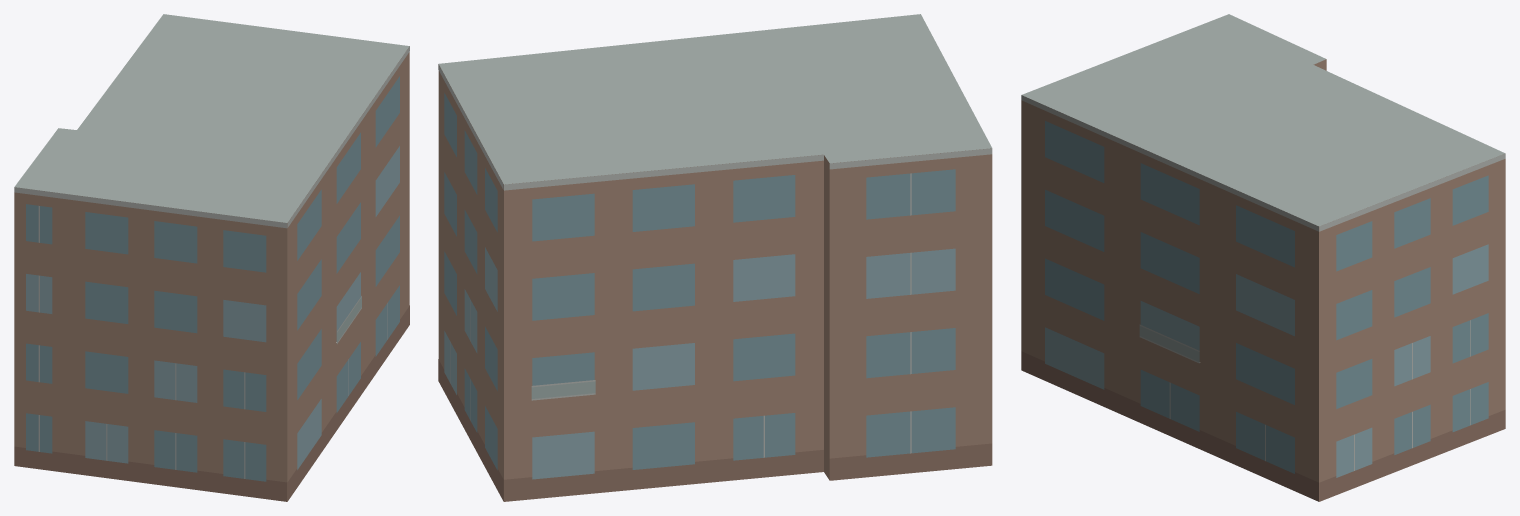
The model's file is survey-upis-32838534.glb.
3 renders of one model, left to right at view 1: azimuth 30°, elevation 25°; view 2: azimuth 150°, elevation 25°; view 3: azimuth 270°, elevation 25°, orthographic. The views are drawn at different scales.
Visible parts, largest first — view 1: survey-upis-32838534.tmp; view 2: survey-upis-32838534.tmp; view 3: survey-upis-32838534.tmp.
Part boxes in pixels (bbox=[...]): survey-upis-32838534.tmp: bbox=[14, 14, 409, 501]; survey-upis-32838534.tmp: bbox=[438, 14, 992, 501]; survey-upis-32838534.tmp: bbox=[1021, 14, 1505, 501].
Bounding box in the file's own units: 21.2 × 12.8 × 20.41.
